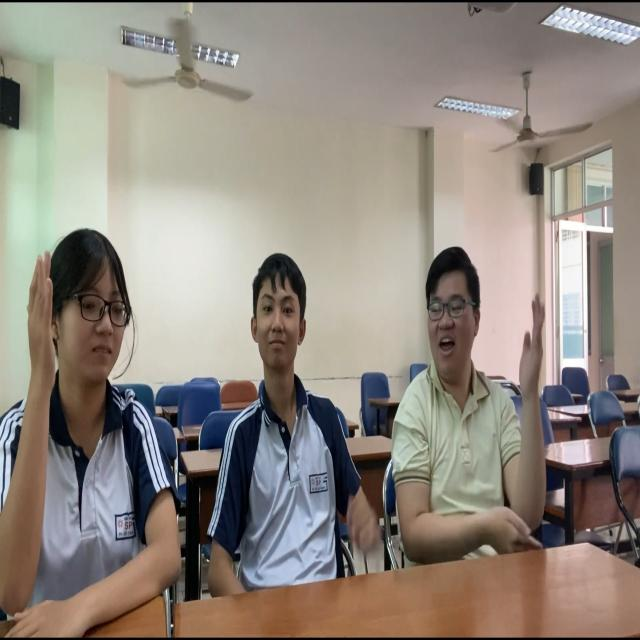raise_hand: (1, 223, 186, 640), (392, 238, 565, 577)
